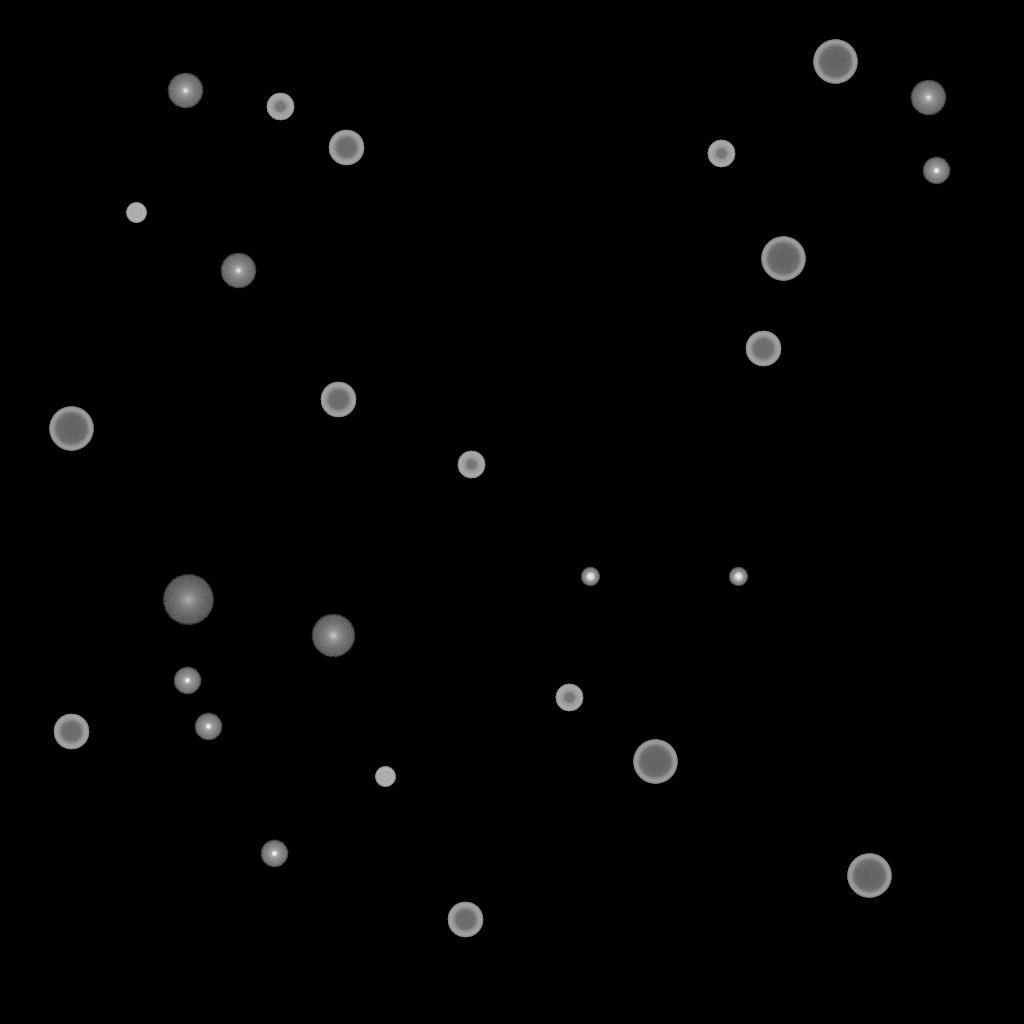depth:-10: (922, 157, 950, 185), (173, 667, 201, 695), (260, 840, 288, 868), (194, 713, 222, 741)
depth:-20: (581, 568, 599, 586), (729, 568, 747, 586)
depth:-40: (375, 767, 395, 787), (126, 203, 146, 223)
depth:-50: (707, 140, 735, 168), (555, 684, 583, 712), (457, 451, 485, 479), (266, 93, 294, 121)
depth:-60: (328, 130, 364, 166), (53, 714, 89, 750), (320, 382, 356, 418), (745, 331, 781, 367), (447, 902, 483, 938)
depth:-70: (633, 740, 677, 784), (813, 40, 857, 84), (49, 407, 93, 451), (847, 854, 891, 898), (761, 237, 805, 281)
depth:0: (910, 80, 946, 116), (167, 73, 203, 109), (220, 253, 256, 289)
depth:10: (311, 614, 355, 658)
depth:20: (162, 575, 214, 625)
